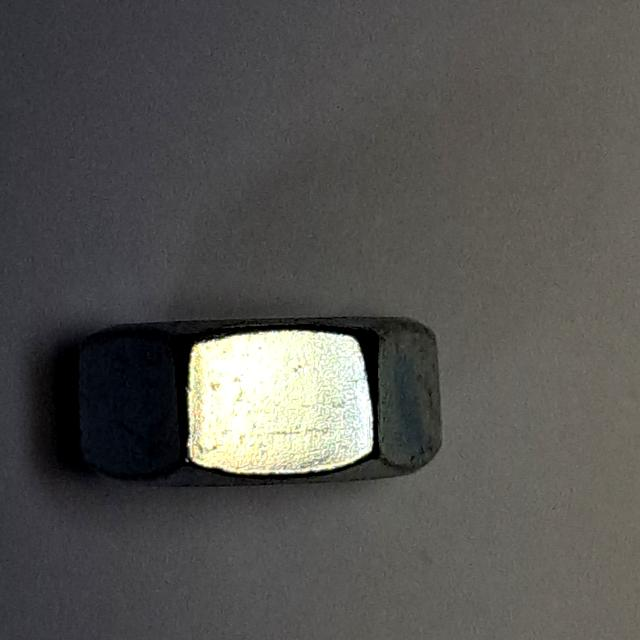Side_Excellent: (62, 286, 468, 511)
